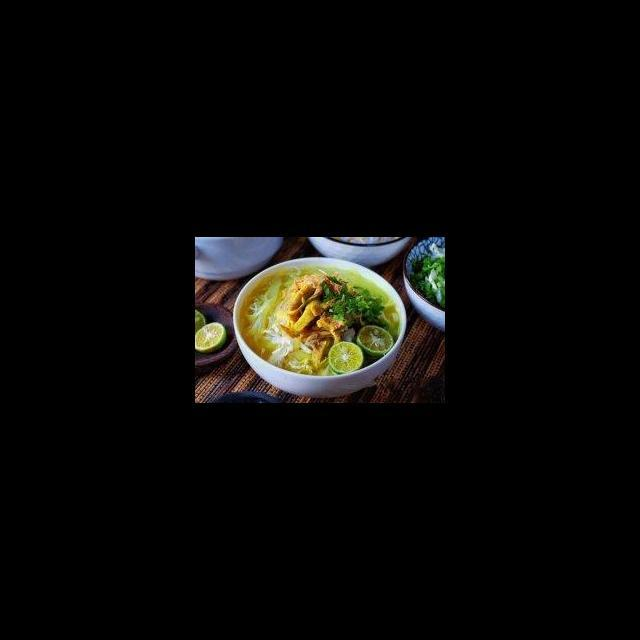Soto: (201, 253, 426, 397)
